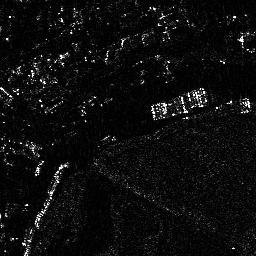ship: (150, 86, 205, 122), (34, 158, 43, 176)
